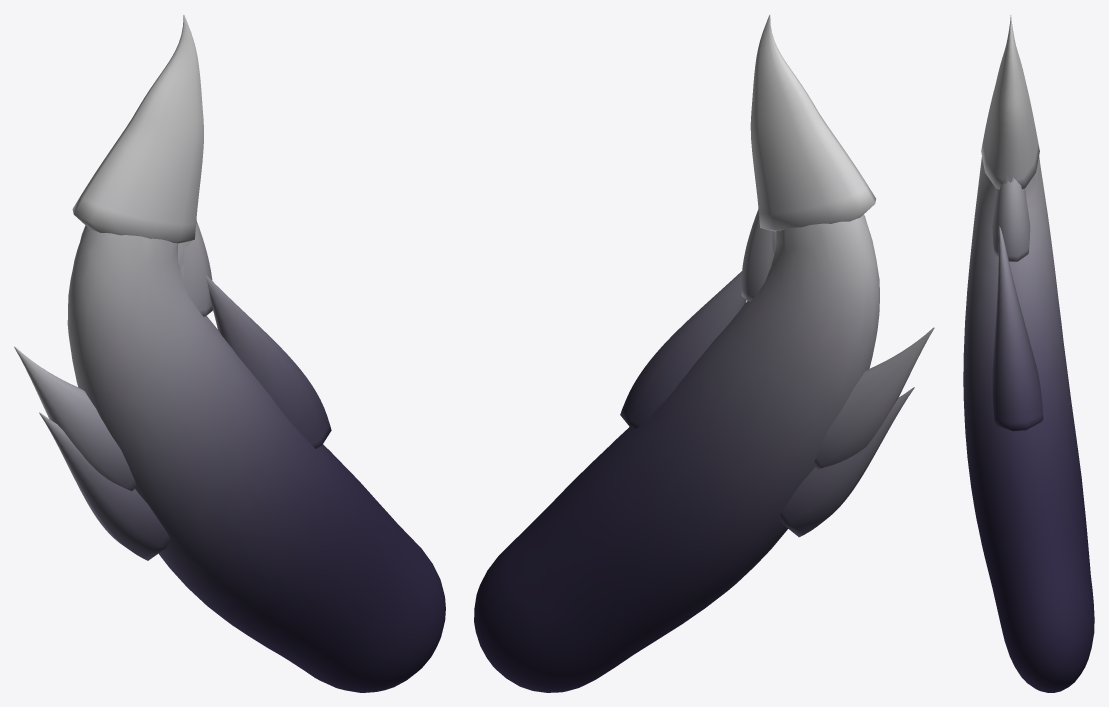
The model's file is monarca_chama_costas_e.fbx.
The picture shows the model from 3 angles, left to right: view 1: azimuth 30°, elevation 25°; view 2: azimuth 150°, elevation 25°; view 3: azimuth 270°, elevation 25°; orthographic projection. The views are drawn at different scales.
Parts seen in each view (by area): view 1: monarca_chama_costas_e; view 2: monarca_chama_costas_e; view 3: monarca_chama_costas_e.
Boxes of the visible parts, <box> form: monarca_chama_costas_e: <box>14,14,445,692</box>; monarca_chama_costas_e: <box>474,14,934,692</box>; monarca_chama_costas_e: <box>963,15,1094,692</box>.
Size of the model in its own units: 3.08 by 4.84 by 0.9768.
